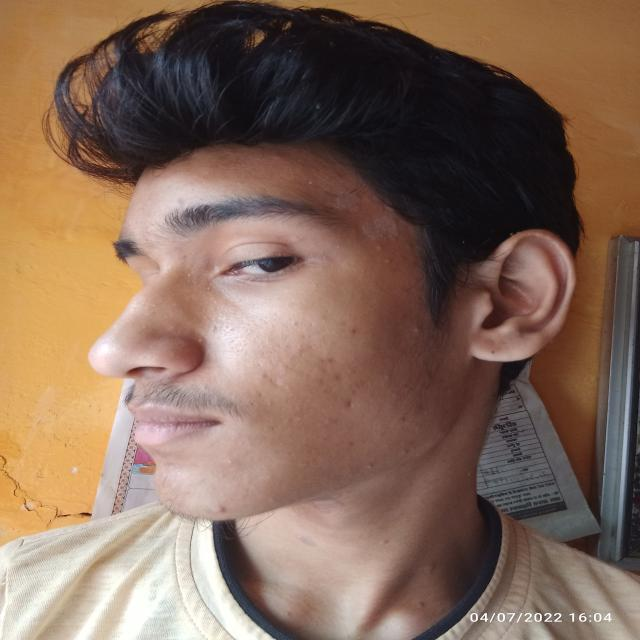Acne: (372, 243, 410, 269), (313, 373, 345, 388), (315, 357, 339, 374), (410, 322, 425, 335), (342, 398, 356, 411), (345, 326, 361, 335), (215, 504, 229, 514)
Dry-Skin: (359, 216, 400, 241), (329, 190, 366, 212)
Englarged-Pores: (215, 311, 293, 358)
